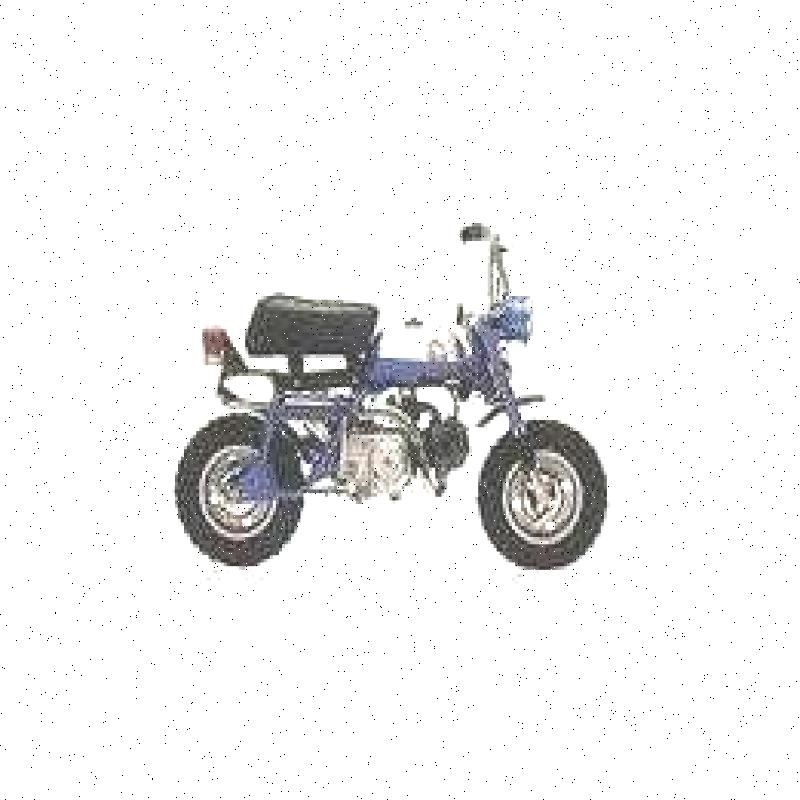bike: (172, 220, 612, 550)
